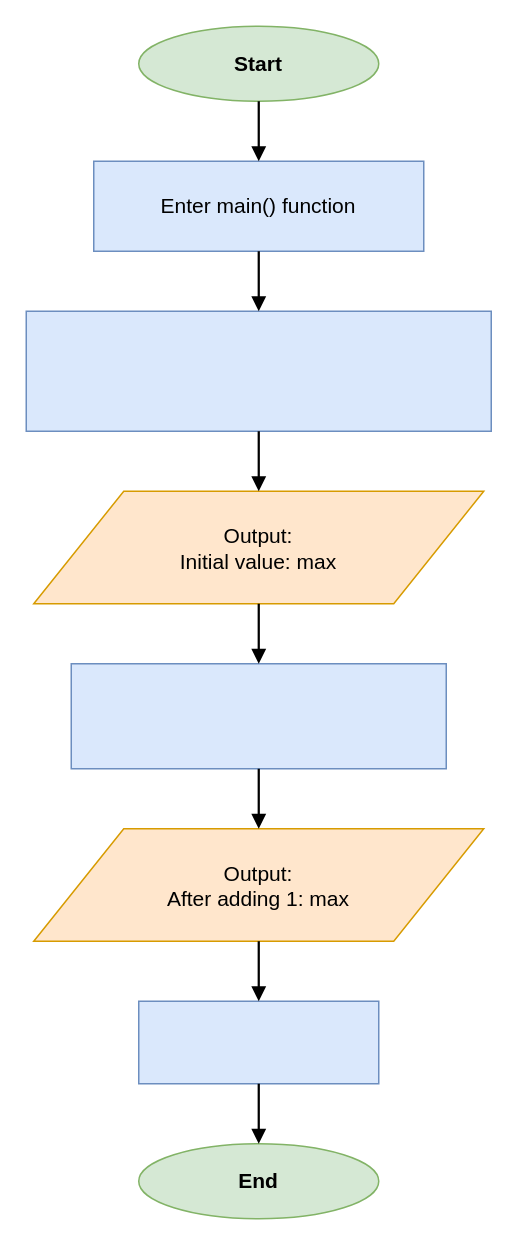
Image size: 518x1245. Some labels were removed from this diagram. The box of each missing label's shape, as (x1, y1, x2, y2) in pixels:
Calculate: max = max + 1: (70, 662, 446, 769)
Declare and initialize variable: unsigned int max = 4294967295: (25, 310, 491, 431)
Return 0: (137, 1000, 379, 1084)
